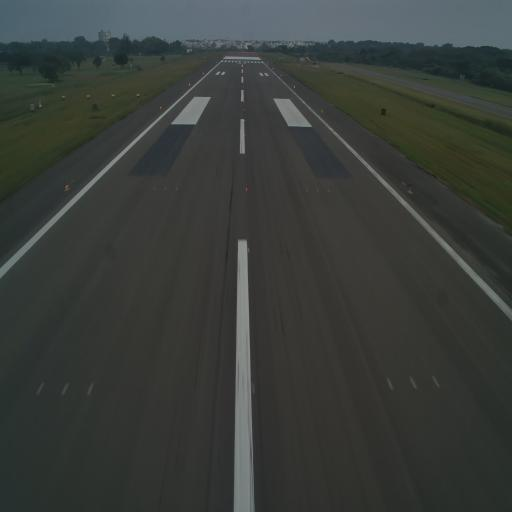off: (406, 370, 421, 394), (31, 376, 47, 398), (383, 372, 395, 400), (429, 371, 441, 395), (84, 379, 96, 400), (59, 378, 72, 397), (402, 179, 412, 196), (315, 186, 321, 196), (163, 183, 168, 194), (325, 186, 331, 194), (304, 184, 308, 194), (152, 183, 156, 193), (174, 185, 178, 194)
on: (246, 244, 252, 257), (64, 182, 70, 193), (244, 186, 248, 196)
